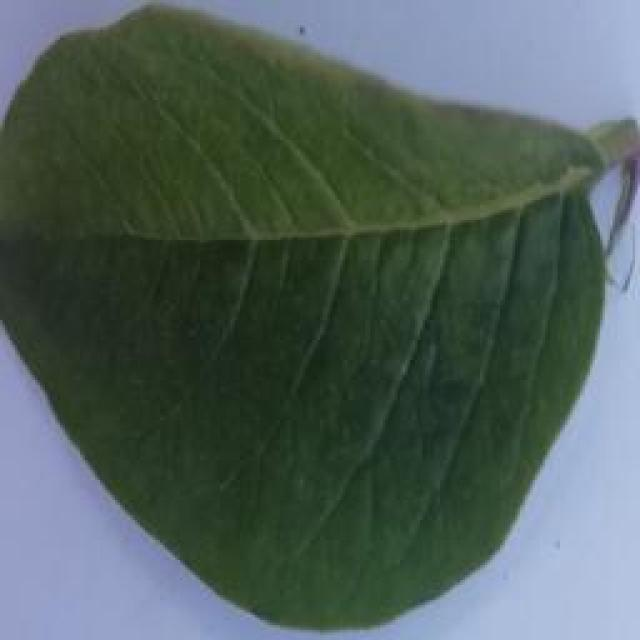Potato_Healthy: (5, 7, 632, 636)
